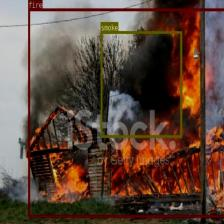fire: (28, 7, 224, 216)
smoke: (100, 31, 182, 137)
